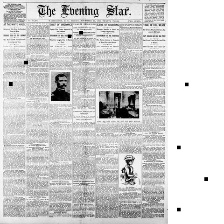news_paper: (0, 0, 174, 224)
